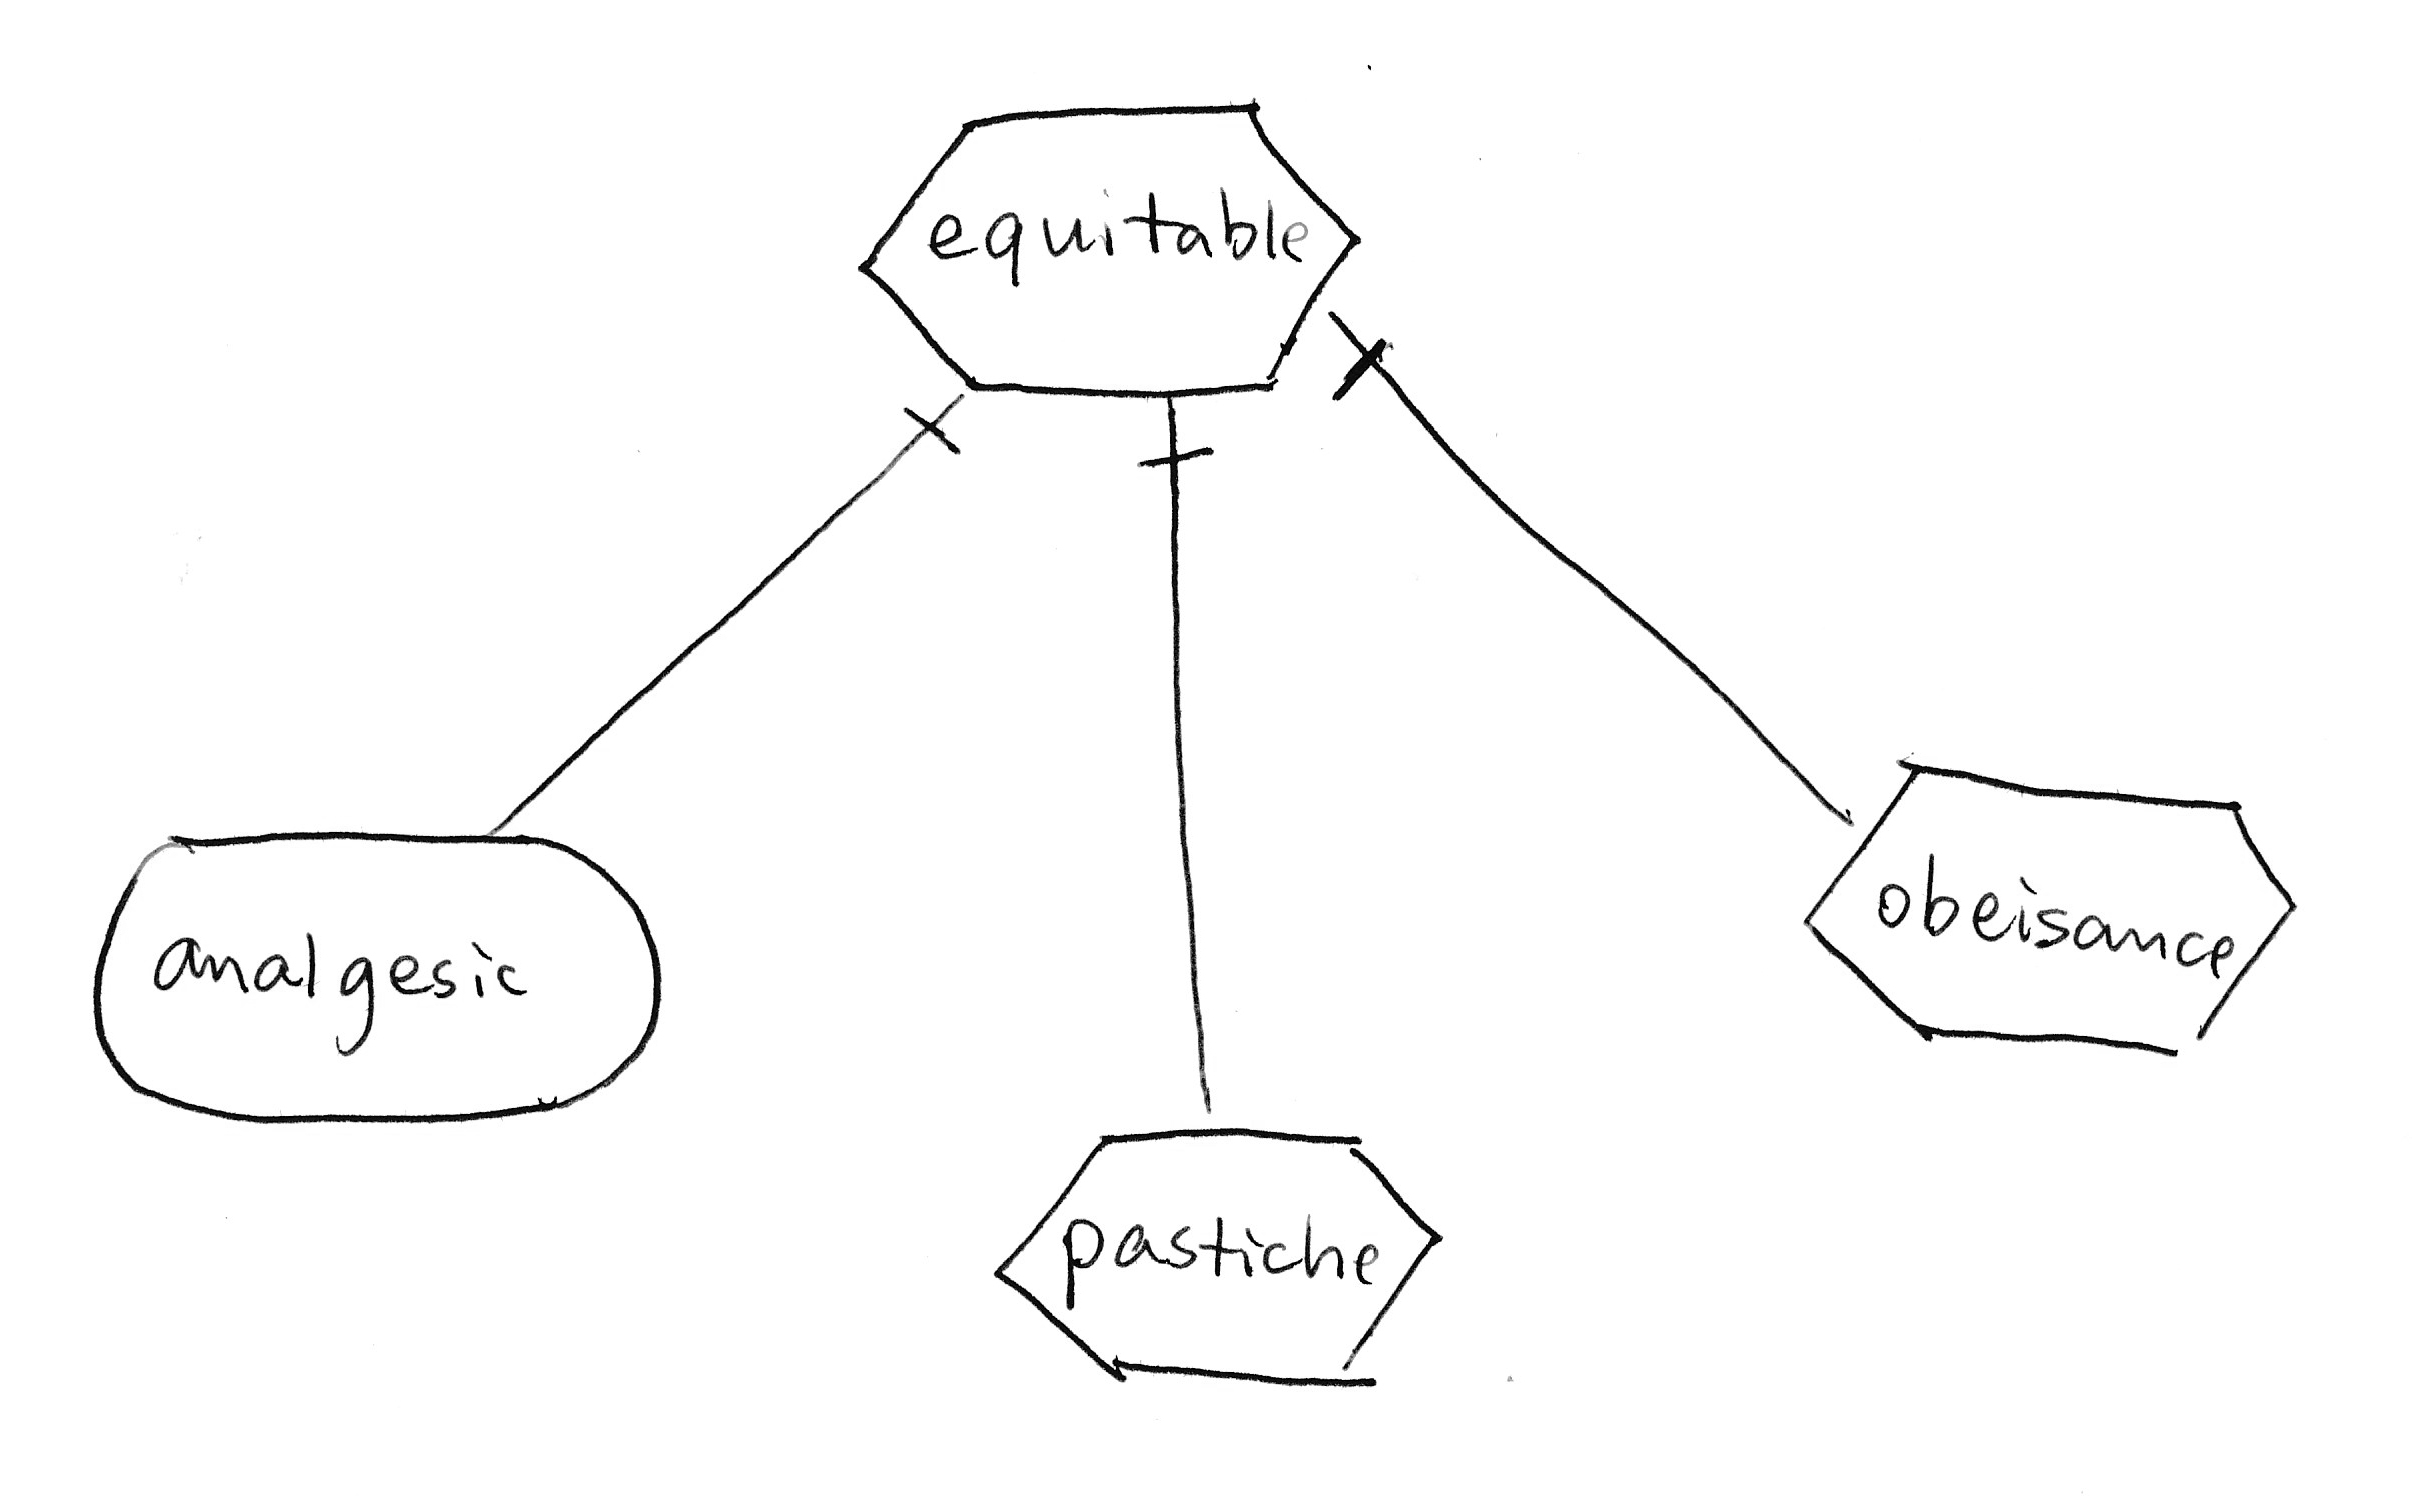and: (1303, 296, 1412, 407), (1125, 378, 1223, 497), (892, 371, 989, 476)
goal: (66, 806, 690, 1149)
task: (842, 76, 1384, 431), (1792, 749, 2322, 1067), (969, 1107, 1454, 1414)
